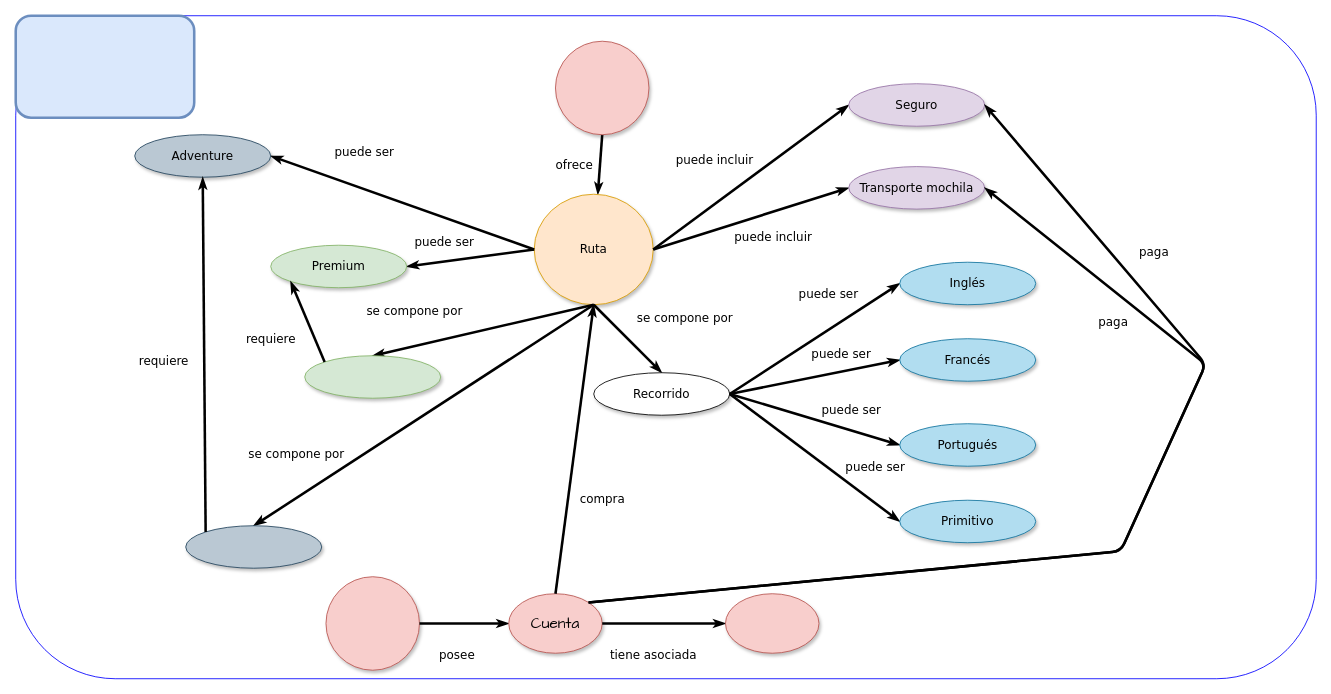
Some shapes in this 1331 by 694 pixel diagram are drawn without their labels. Each missing label, with the centre of its shape:
Albergue Privado: point 254,547
Cliente: point 373,624
Hotel rural: point 373,377
Mapa conceptual: Las Rutas: point 104,66
Mutiny Systems: point 602,89
Tarjeta: point 772,624
